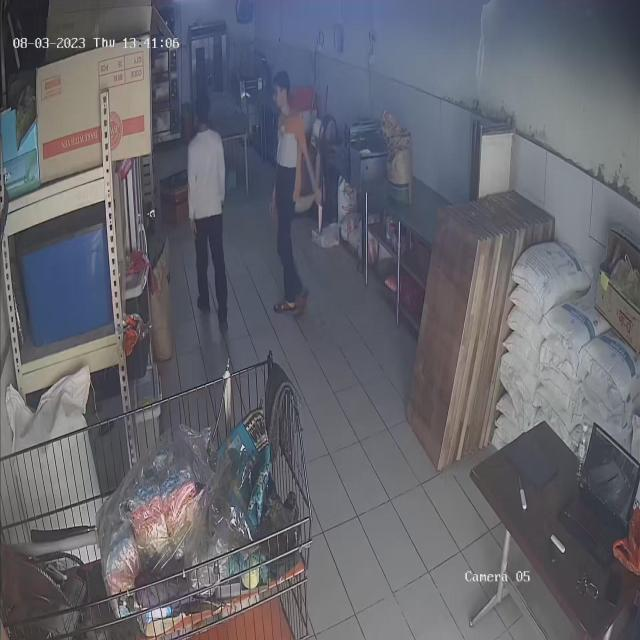Knife: (309, 198, 335, 236)
